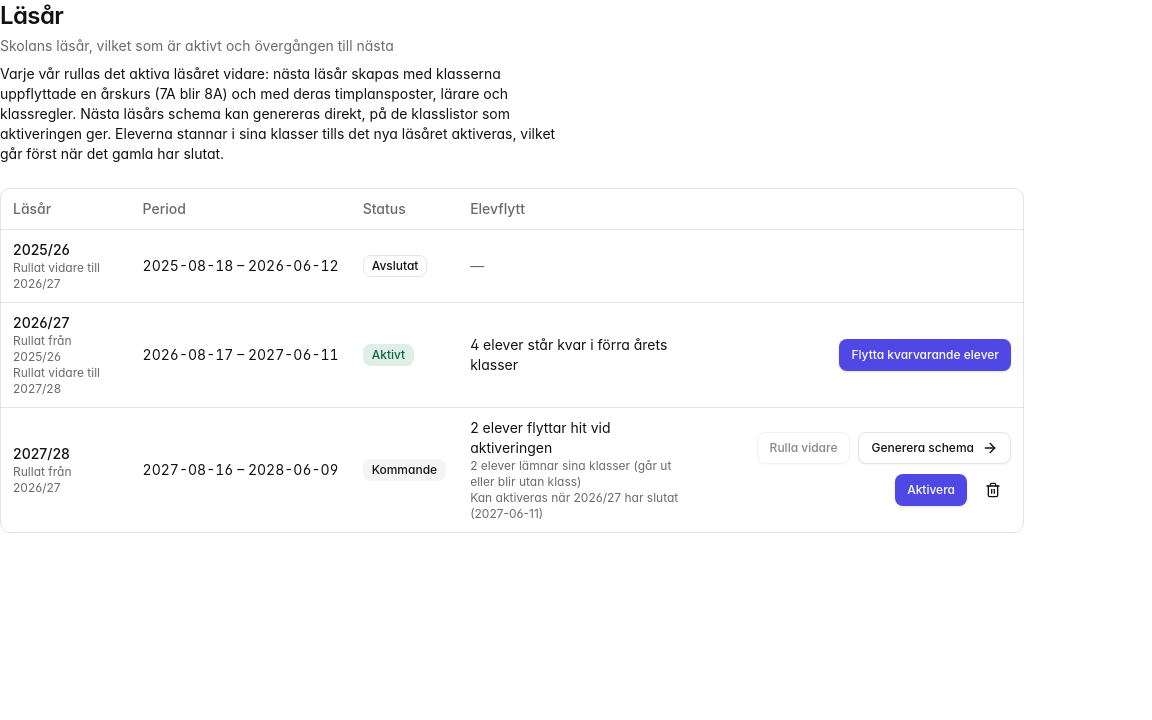
Test: YearsPage › will not activate while the old year runs, and says until when
What coordinates should you click on to do the following:
click the button "Aktivera"
I would click on:
 (931, 490)
Its box is top-left (895, 474), bottom-right (967, 506).
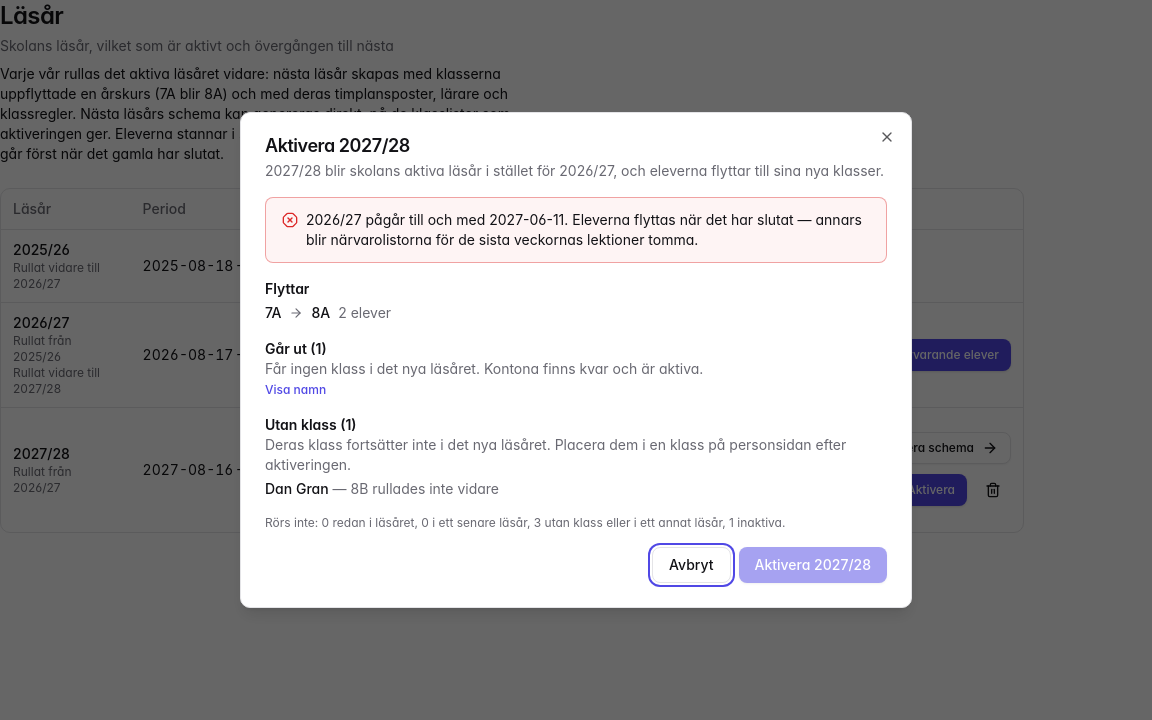
Expected: the text "2026/27 pågår till och med 2027-06-11" is shown, top-left (306, 211), bottom-right (862, 248)
Expected: the button "Aktivera 2027/28" is disabled, top-left (738, 547), bottom-right (887, 583)
